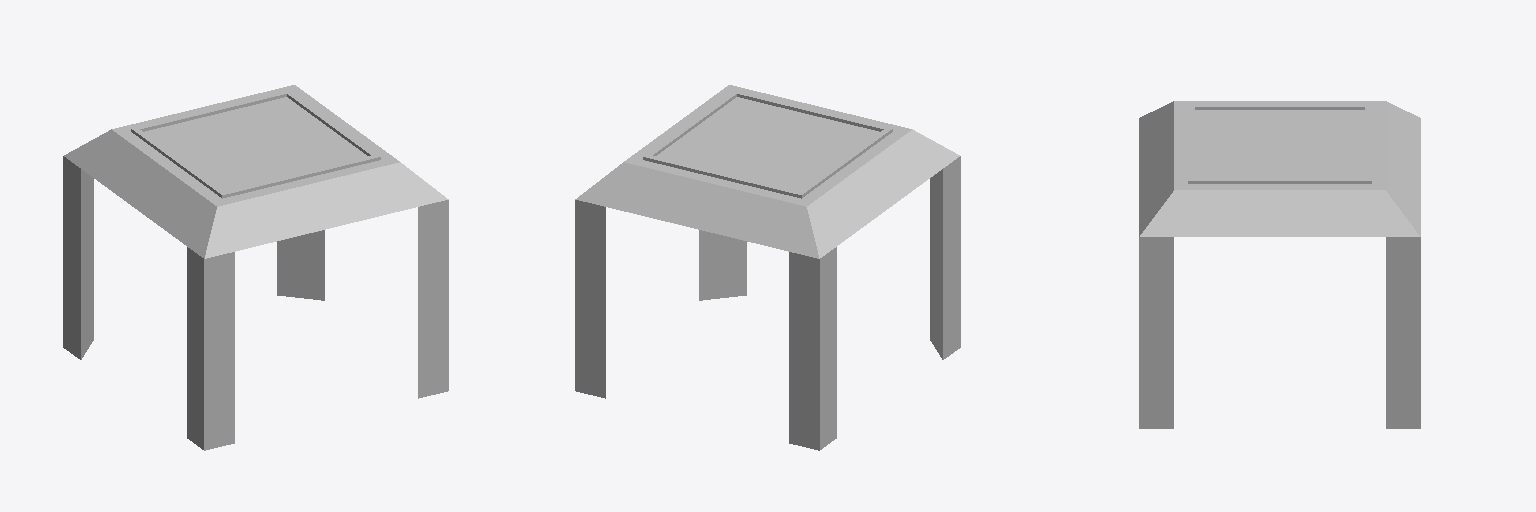
File: temple_top.obj
3 renders of one model, left to right at view 1: azimuth 30°, elevation 25°; view 2: azimuth 150°, elevation 25°; view 3: azimuth 270°, elevation 25°, orthographic.
Visible parts, largest first — view 1: Cube.004, Cube.002, Cube.007, Cube.008, Cube.003, Cube, Cube.001, Cube.010, Cube.015, Cube.016, Cube.014, Cube.013 (+2 smaller); view 2: Cube.004, Cube, Cube.005, Cube.008, Cube.001, Cube.002, Cube.003, Cube.009, Cube.016, Cube.015, Cube.014, Cube.013 (+2 smaller); view 3: Cube.004, Cube.006, Cube.001, Cube.003, Cube.005, Cube.007, Cube.013, Cube.011, Cube.012, Cube.014.
Boxes of the visible parts, box(x1,y1,x2,y2) form: Cube.004: box(112, 85, 399, 206); Cube.002: box(187, 247, 234, 450); Cube.007: box(218, 162, 417, 251); Cube.008: box(81, 129, 216, 245); Cube.003: box(418, 200, 448, 398); Cube: box(63, 156, 93, 359); Cube.001: box(277, 230, 324, 300); Cube.010: box(187, 207, 234, 258); Cube.015: box(225, 156, 374, 196); Cube.016: box(138, 91, 286, 131); Cube.014: box(131, 127, 228, 198); Cube.013: box(284, 90, 380, 160); Cube.004: box(624, 85, 911, 206); Cube: box(789, 247, 836, 450); Cube.005: box(606, 162, 805, 251); Cube.008: box(807, 129, 942, 245); Cube.001: box(575, 200, 605, 398); Cube.002: box(930, 156, 960, 359); Cube.003: box(699, 230, 746, 300); Cube.009: box(789, 207, 836, 258); Cube.016: box(649, 156, 798, 196); Cube.015: box(737, 91, 885, 131); Cube.014: box(795, 127, 892, 198); Cube.013: box(643, 90, 739, 160); Cube.004: box(1174, 101, 1385, 189); Cube.006: box(1174, 190, 1385, 236); Cube.001: box(1386, 237, 1420, 428); Cube.003: box(1139, 237, 1173, 428); Cube.005: box(1386, 102, 1420, 221); Cube.007: box(1139, 102, 1173, 221); Cube.013: box(1188, 178, 1371, 183); Cube.011: box(1386, 191, 1420, 236); Cube.012: box(1139, 191, 1173, 236); Cube.014: box(1188, 104, 1371, 109).
Bounding box in the file's own units: 4 × 3.55 × 4.